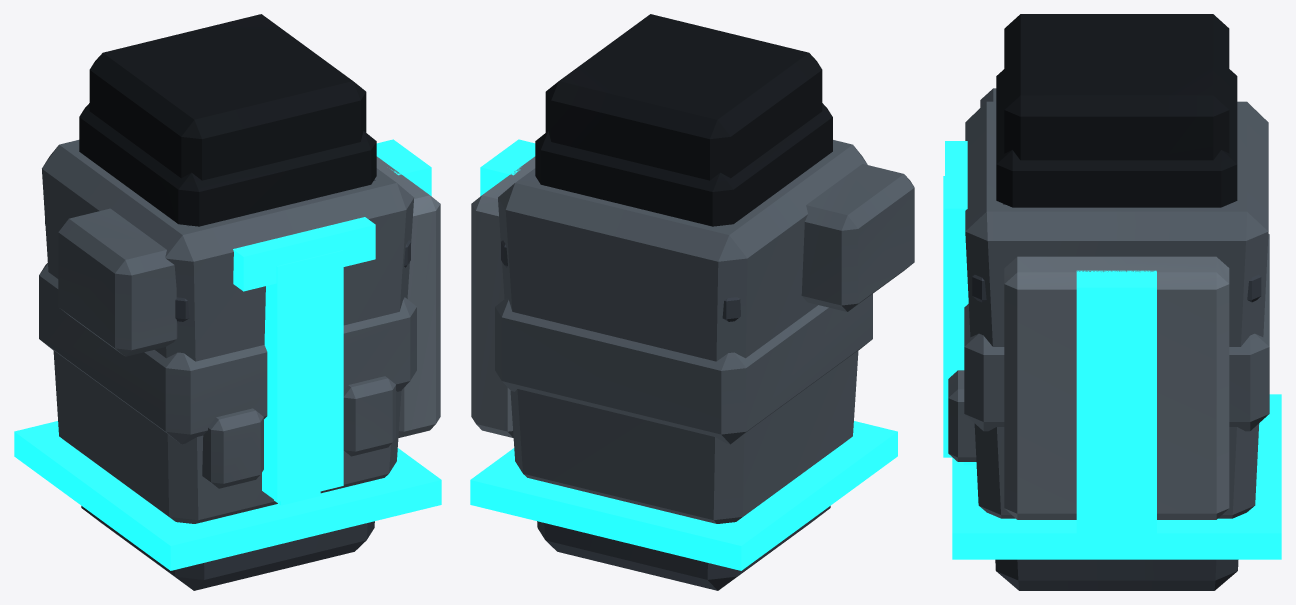
Rendered from arm.L.cyber.glb.
3 renders of one model, left to right at view 1: azimuth 30°, elevation 25°; view 2: azimuth 150°, elevation 25°; view 3: azimuth 270°, elevation 25°, orthographic. The views are drawn at different scales.
Parts seen in each view (by area): view 1: forearm.L@cyber.base, forearm.L@cyber.emissive.cyan, arm.L@cyber.base, hand.L@cyber.base, hand.L@cyber.emissive.cyan; view 2: forearm.L@cyber.base, arm.L@cyber.base, forearm.L@cyber.emissive.cyan, hand.L@cyber.base; view 3: forearm.L@cyber.base, forearm.L@cyber.emissive.cyan, arm.L@cyber.base, hand.L@cyber.emissive.cyan, hand.L@cyber.base.
Part boxes in pixels (x1,y1,x2,y2): forearm.L@cyber.base: (42,14,440,523); forearm.L@cyber.emissive.cyan: (14,139,441,570); arm.L@cyber.base: (39,103,416,590); hand.L@cyber.base: (58,179,395,488); hand.L@cyber.emissive.cyan: (233,217,375,291); forearm.L@cyber.base: (471,14,867,523); arm.L@cyber.base: (495,103,872,590); forearm.L@cyber.emissive.cyan: (470,139,897,570); hand.L@cyber.base: (801,164,914,311); forearm.L@cyber.base: (965,14,1268,519); forearm.L@cyber.emissive.cyan: (943,176,1281,559); arm.L@cyber.base: (964,69,1269,590); hand.L@cyber.emissive.cyan: (945,141,967,245); hand.L@cyber.base: (948,88,1005,461).
Bounding box in the file's own units: 0.2695 × 0.34 × 0.2105.
